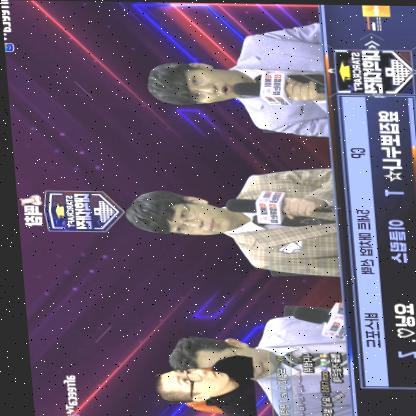streamer: (141, 353, 249, 416)
